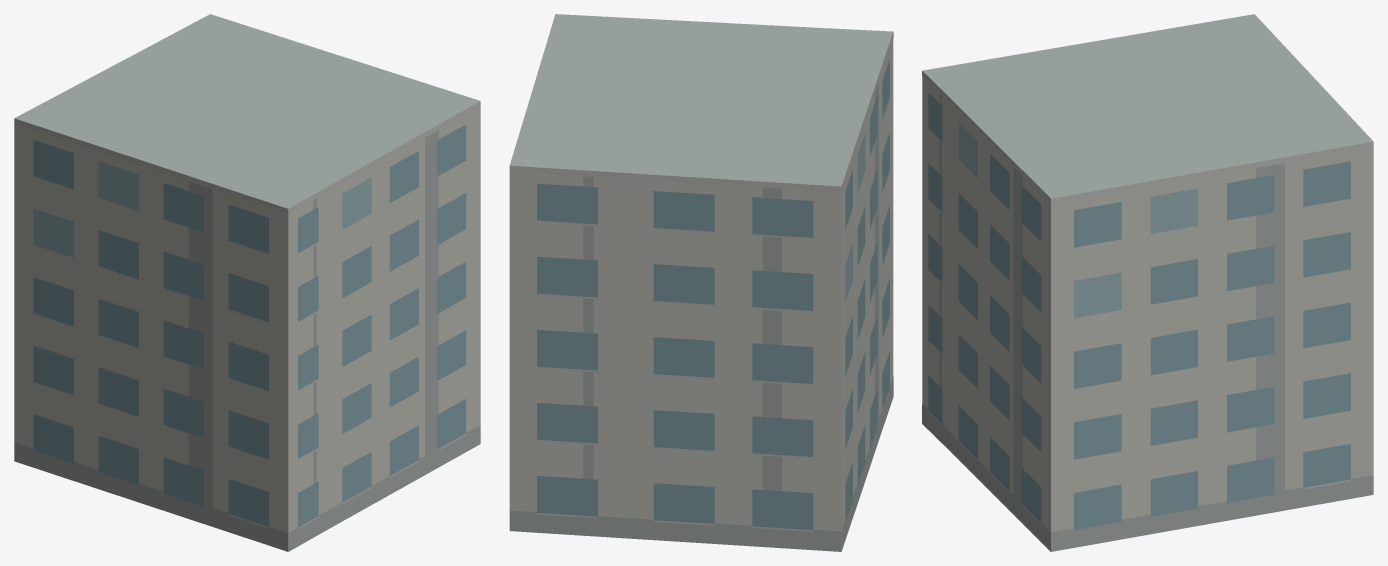
Rendered from survey-upis-32849650.glb.
The picture shows the model from 3 angles, left to right: view 1: azimuth 30°, elevation 25°; view 2: azimuth 150°, elevation 25°; view 3: azimuth 270°, elevation 25°; orthographic projection. The views are drawn at different scales.
Parts seen in each view (by area): view 1: survey-upis-32849650.tmp; view 2: survey-upis-32849650.tmp; view 3: survey-upis-32849650.tmp.
Boxes of the visible parts, x1,y1,x2,y2 form: survey-upis-32849650.tmp: [14, 14, 480, 551]; survey-upis-32849650.tmp: [509, 14, 893, 551]; survey-upis-32849650.tmp: [922, 14, 1373, 551].
Bounding box in the file's own units: 16.78 × 14.96 × 17.34.
